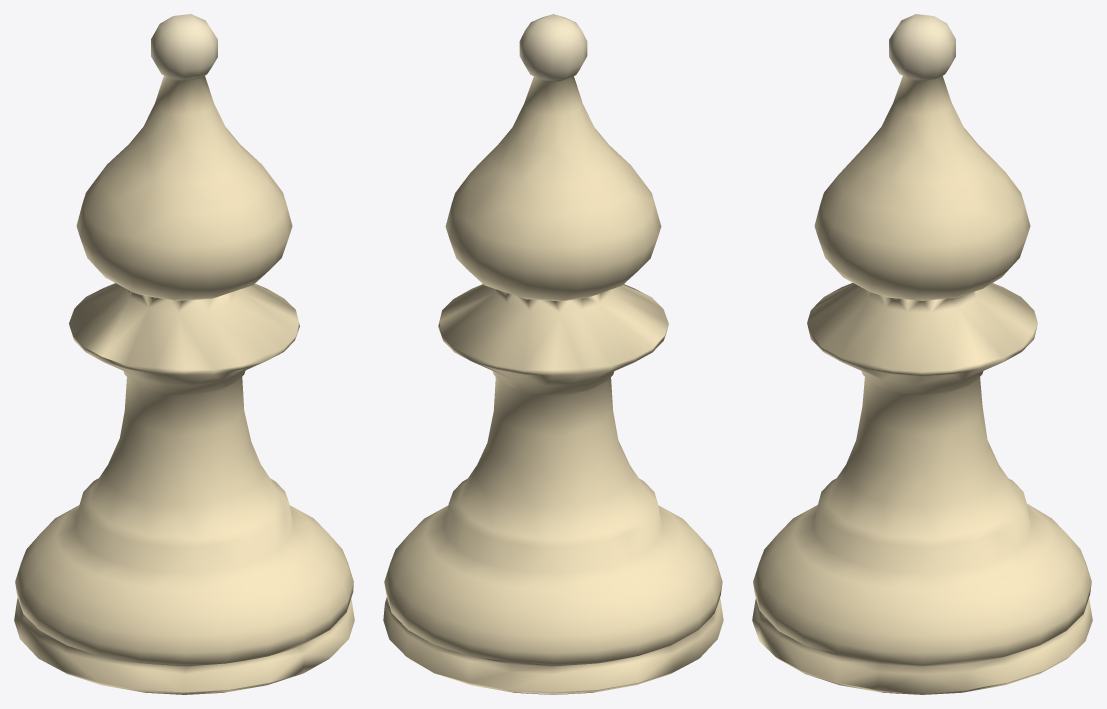
Rendered from xadrez_bispo_branco_pacote.glb.
3 renders of one model, left to right at view 1: azimuth 30°, elevation 25°; view 2: azimuth 150°, elevation 25°; view 3: azimuth 270°, elevation 25°, orthographic.
Visible parts, largest first — view 1: xadrez_bispo_branco_pacote; view 2: xadrez_bispo_branco_pacote; view 3: xadrez_bispo_branco_pacote.
Part boxes in pixels (x1,y1,x2,y2): xadrez_bispo_branco_pacote: [14, 14, 354, 694]; xadrez_bispo_branco_pacote: [383, 14, 723, 694]; xadrez_bispo_branco_pacote: [752, 14, 1092, 694].
Size of the model in its own units: 0.0362 by 0.0721 by 0.0364.
Materials: 1 (1 with a texture image).
